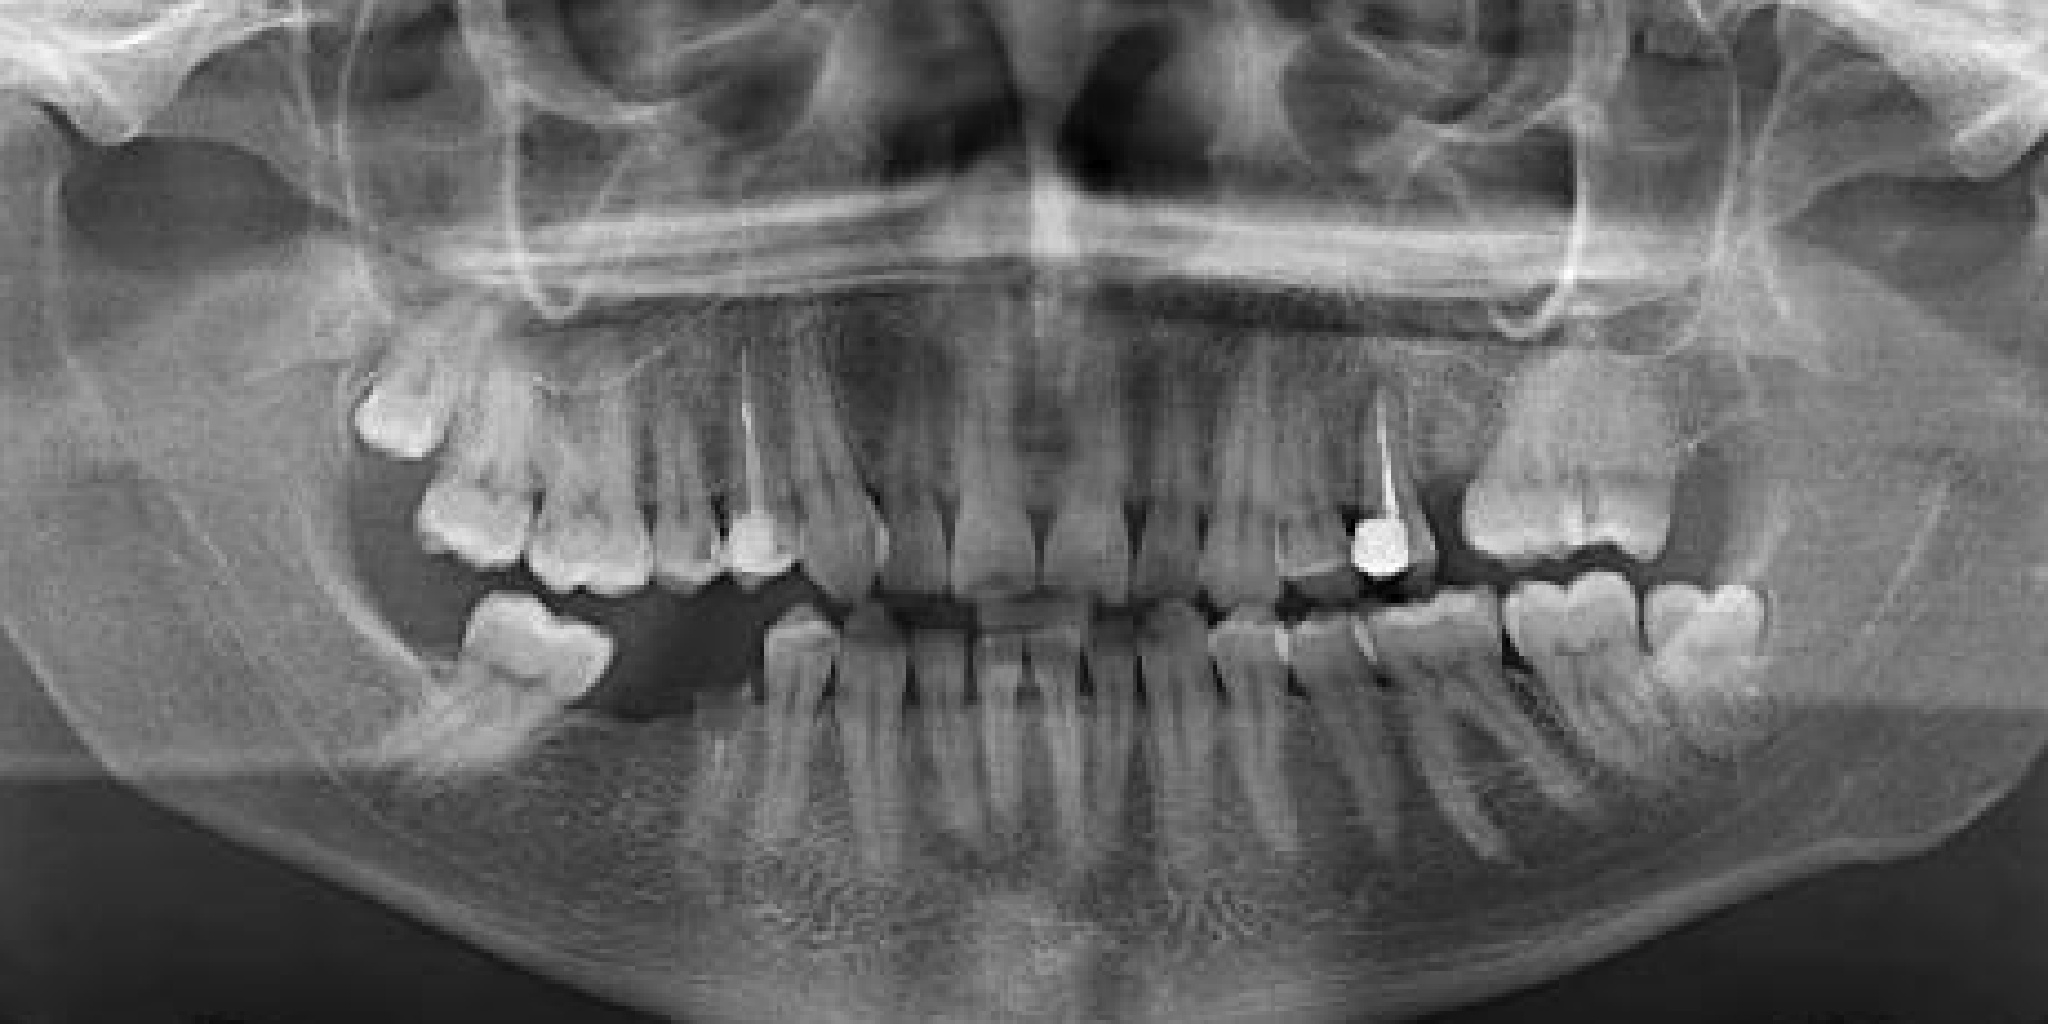Tooth: (519, 327, 690, 616), (1270, 589, 1437, 872), (748, 300, 901, 609), (909, 296, 1044, 610), (330, 268, 509, 483), (679, 310, 812, 598), (1190, 327, 1314, 626), (409, 330, 558, 579), (1446, 342, 1600, 576), (1034, 328, 1157, 609), (1549, 345, 1701, 568), (1202, 597, 1330, 857), (1633, 563, 1789, 751), (615, 357, 731, 603), (1250, 377, 1371, 609), (825, 600, 923, 852), (1115, 344, 1209, 603), (1020, 610, 1112, 871), (857, 357, 953, 598), (1336, 377, 1438, 583), (754, 596, 840, 820), (680, 662, 755, 909), (908, 623, 977, 824), (967, 614, 1028, 824)
